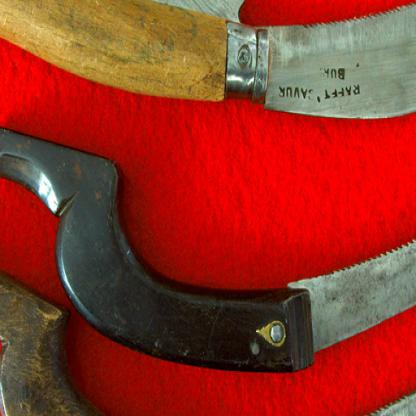knife: (0, 125, 415, 375), (0, 209, 415, 415), (0, 0, 415, 122)
